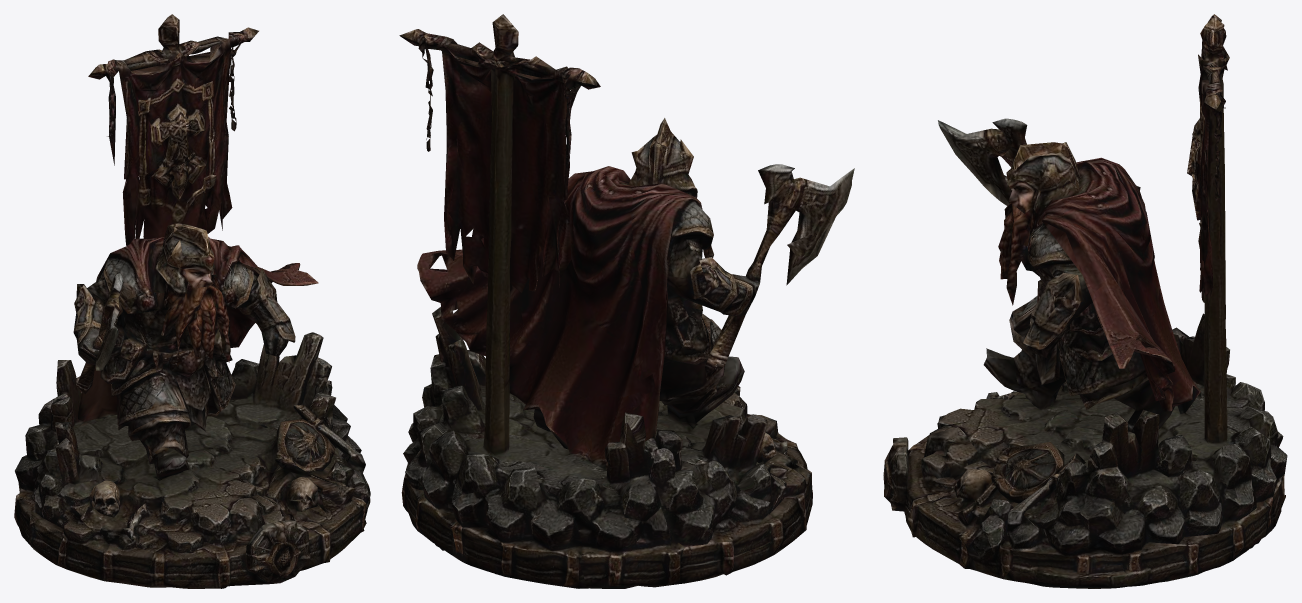
Rendered from gen-dwarf-1.glb.
3 views of the same model, side by side, from view 1: azimuth 30°, elevation 25°; view 2: azimuth 150°, elevation 25°; view 3: azimuth 270°, elevation 25° (orthographic). The views are drawn at different scales.
Visible parts, largest first — view 1: tripo_node_fed82956-5ea9-463a-93b3-7d8481d6f54a; view 2: tripo_node_fed82956-5ea9-463a-93b3-7d8481d6f54a; view 3: tripo_node_fed82956-5ea9-463a-93b3-7d8481d6f54a.
Boxes of the visible parts, x1,y1,x2,y2 form: tripo_node_fed82956-5ea9-463a-93b3-7d8481d6f54a: [14, 14, 370, 588]; tripo_node_fed82956-5ea9-463a-93b3-7d8481d6f54a: [399, 14, 854, 588]; tripo_node_fed82956-5ea9-463a-93b3-7d8481d6f54a: [883, 14, 1287, 588].
Size of the model in its own units: 0.7248 by 0.9993 by 0.7175.
Materials: 1 (1 with a texture image).
